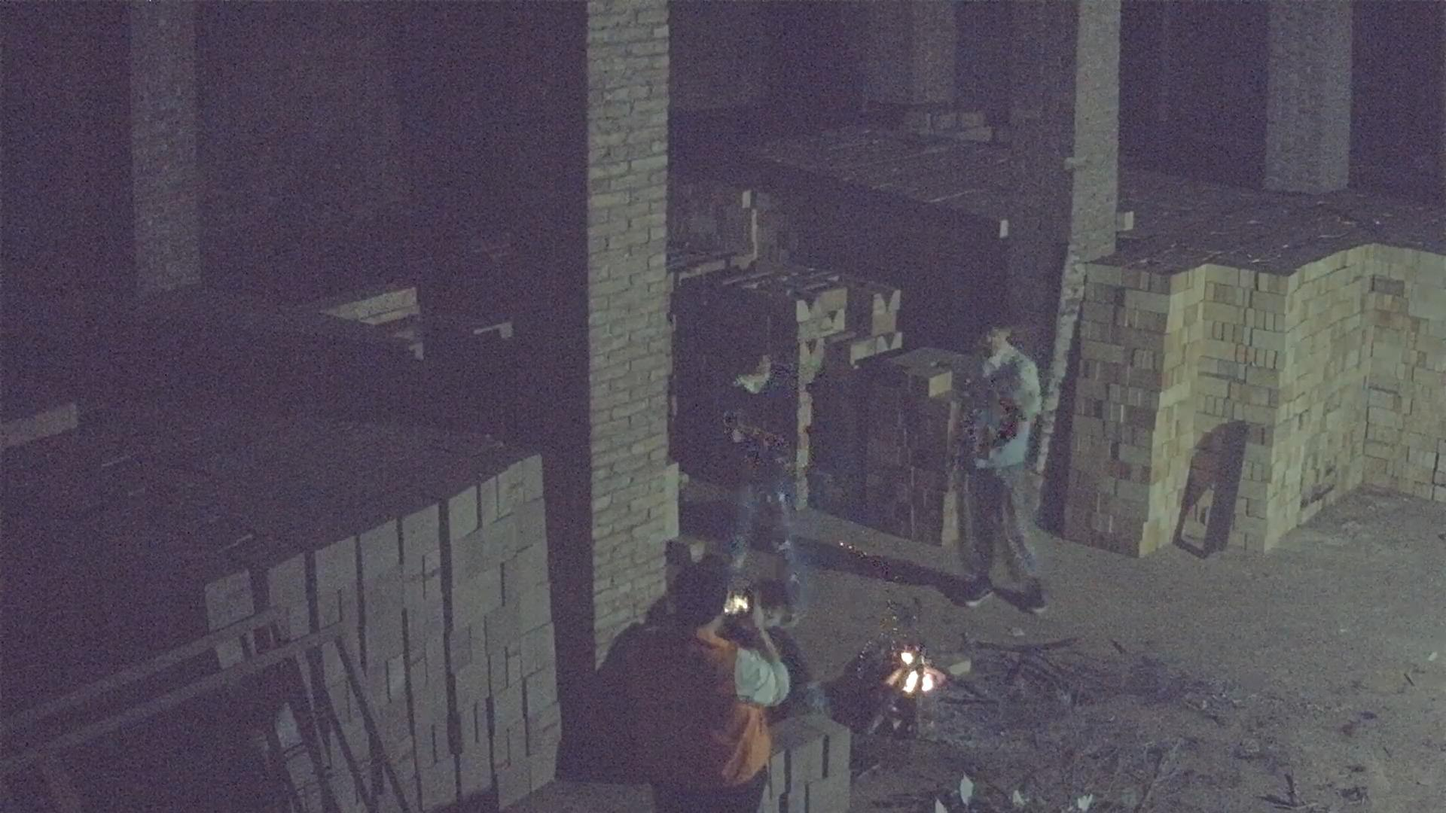fire: (886, 646, 943, 695)
